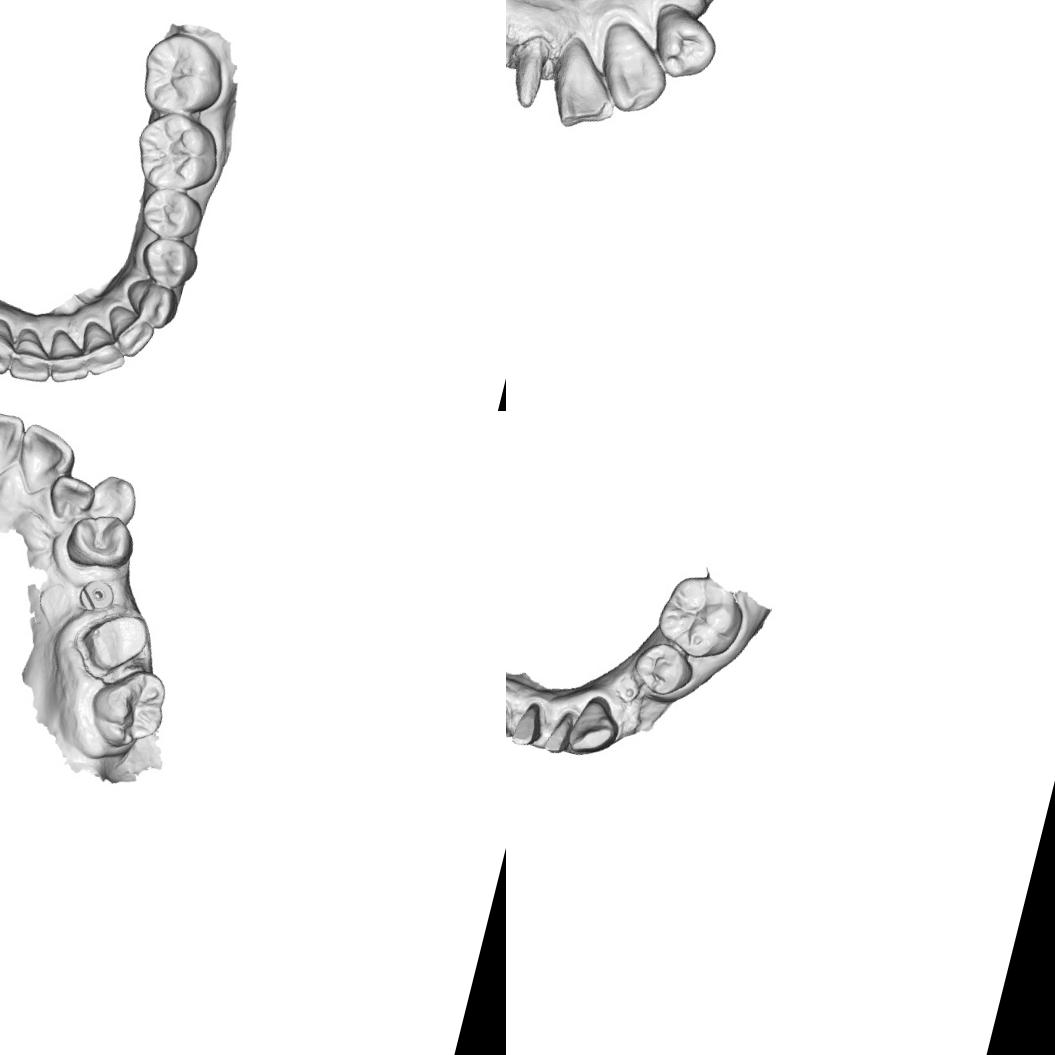canine: (588, 19, 676, 118), (118, 267, 186, 333), (564, 691, 626, 762), (85, 470, 143, 526), (0, 310, 23, 377)
crown: (72, 600, 156, 682), (506, 35, 554, 116), (508, 698, 548, 750), (540, 710, 574, 756)
implant: (73, 572, 120, 616)
incisor: (546, 36, 628, 136), (8, 419, 82, 504), (4, 318, 64, 389), (74, 317, 134, 383), (98, 300, 161, 362), (42, 322, 100, 388), (42, 470, 98, 528), (0, 411, 28, 485)
molar: (650, 566, 752, 668), (133, 25, 232, 126), (125, 105, 227, 202), (80, 656, 174, 758)
premolar: (642, 0, 725, 87), (60, 505, 140, 577), (134, 181, 209, 246), (628, 636, 698, 701), (134, 230, 204, 294)
